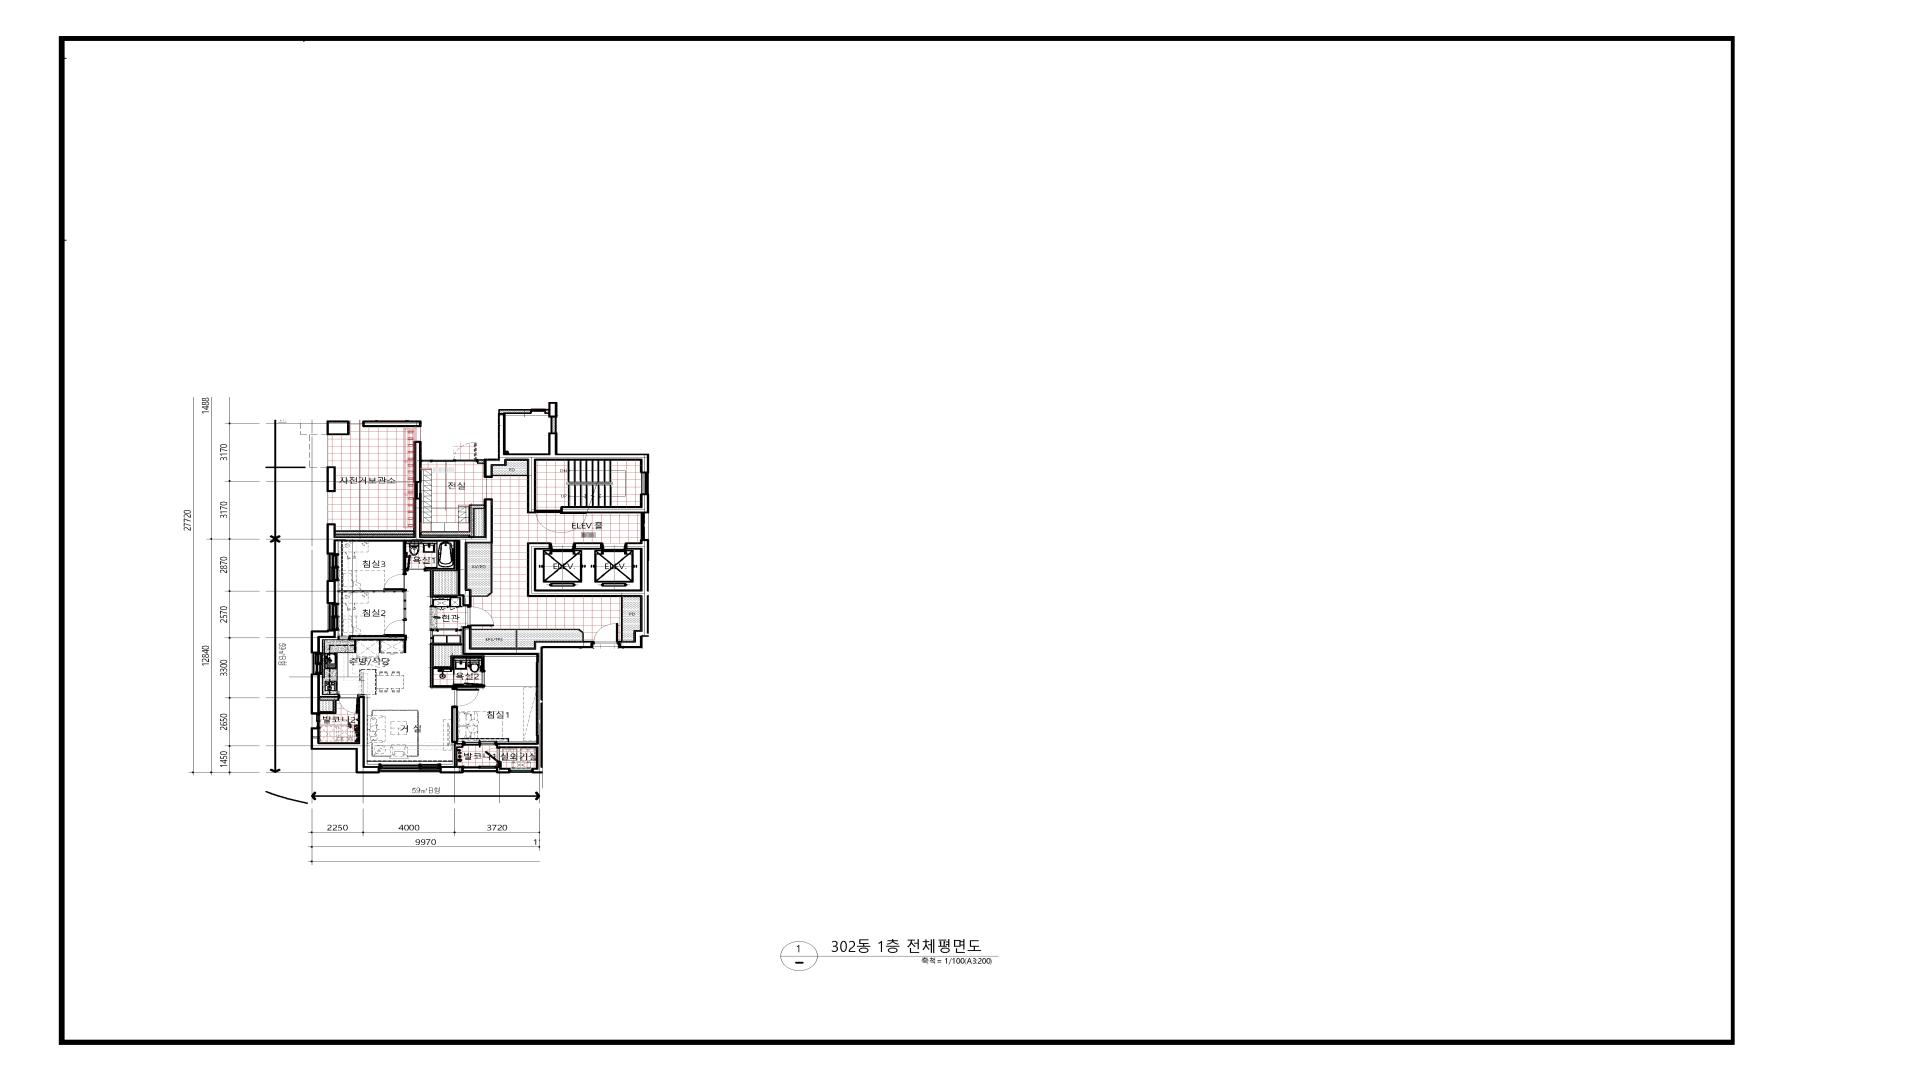door: (462, 607, 495, 629), (592, 622, 620, 647), (535, 509, 560, 533), (451, 688, 481, 707), (454, 443, 477, 462), (384, 574, 407, 591), (339, 694, 357, 715), (384, 618, 406, 634), (464, 671, 487, 686), (406, 554, 425, 571), (484, 748, 500, 761)
wall: (463, 629, 592, 774), (327, 498, 493, 607), (477, 414, 649, 513), (526, 539, 649, 649), (310, 696, 378, 774), (430, 642, 487, 688), (425, 542, 458, 607), (472, 629, 584, 647), (338, 589, 406, 618), (422, 505, 484, 537), (498, 402, 558, 433), (560, 493, 649, 513), (338, 634, 407, 653), (472, 543, 492, 597), (451, 707, 462, 766), (311, 630, 336, 653), (336, 530, 414, 535), (363, 421, 422, 427), (413, 440, 422, 483), (311, 675, 320, 715), (326, 421, 349, 435), (320, 696, 339, 715), (574, 542, 604, 550), (327, 467, 336, 492), (327, 582, 336, 603), (442, 766, 463, 774), (402, 542, 406, 574), (496, 767, 510, 774), (430, 629, 436, 642), (621, 596, 622, 641), (493, 475, 527, 476), (456, 629, 462, 632)
window: (378, 764, 442, 773), (327, 603, 339, 630), (327, 554, 339, 582), (310, 653, 323, 675), (463, 766, 496, 773), (641, 513, 649, 539), (462, 741, 497, 746), (640, 473, 649, 493), (414, 483, 422, 498), (311, 715, 320, 728), (422, 459, 454, 462), (510, 769, 531, 773)
